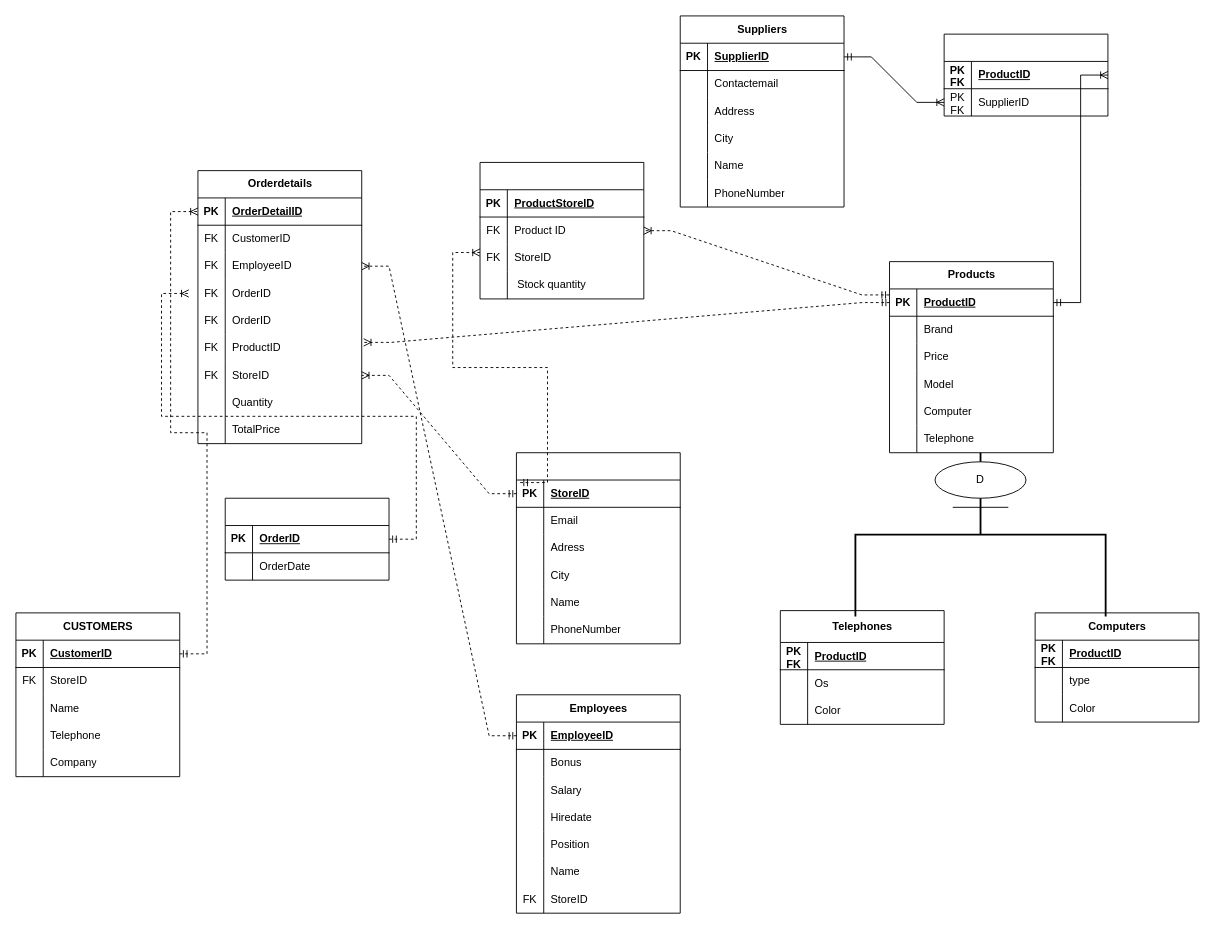
This 1215x929 diagram has some shape labels left out. The shapes that lost their labels are listed below. From the top down, each one's box as (x1, y1, x2, y2) in pixels, then its label:
(943, 33, 1108, 116): Suppli...oducts
(479, 162, 644, 299): Productstores
(224, 497, 389, 580): ORDERS
(516, 452, 680, 644): STORES
